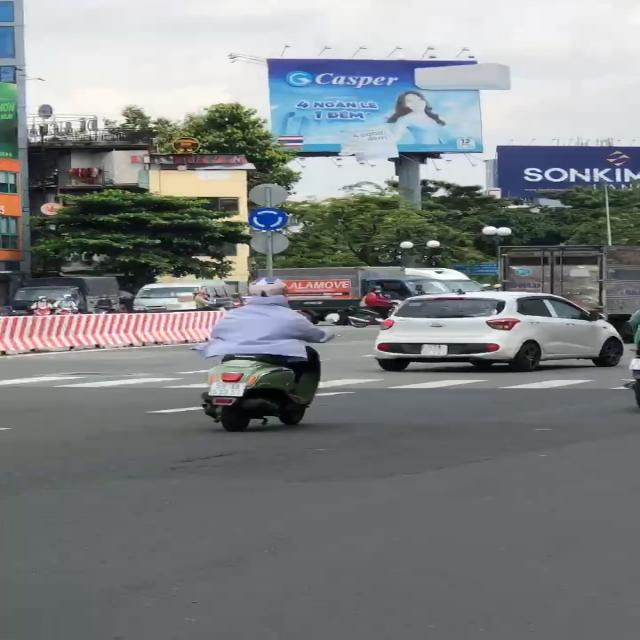Bien bao noi giao nhau chay theo vong xuyen: (248, 206, 290, 231)
